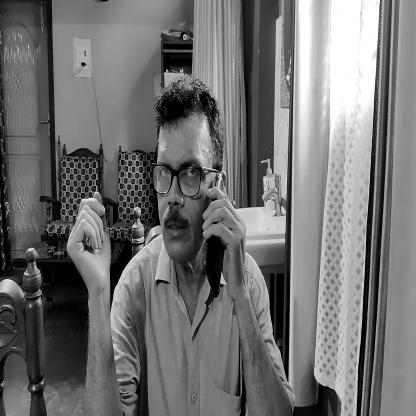Distracted: (153, 89, 212, 266)
